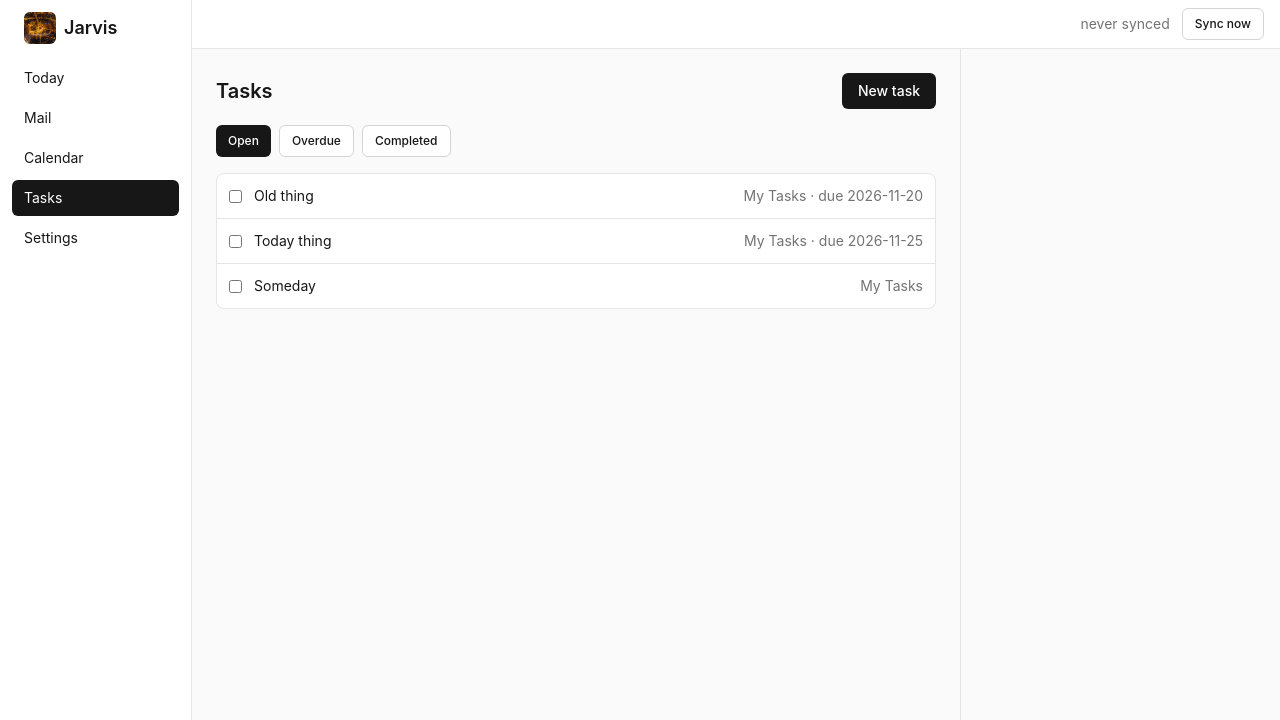
Test: Complete task › rolls back and shows the error when completing fails
Click the checkbox named "Complete Today thing": (236, 241) [229,234,242,248]
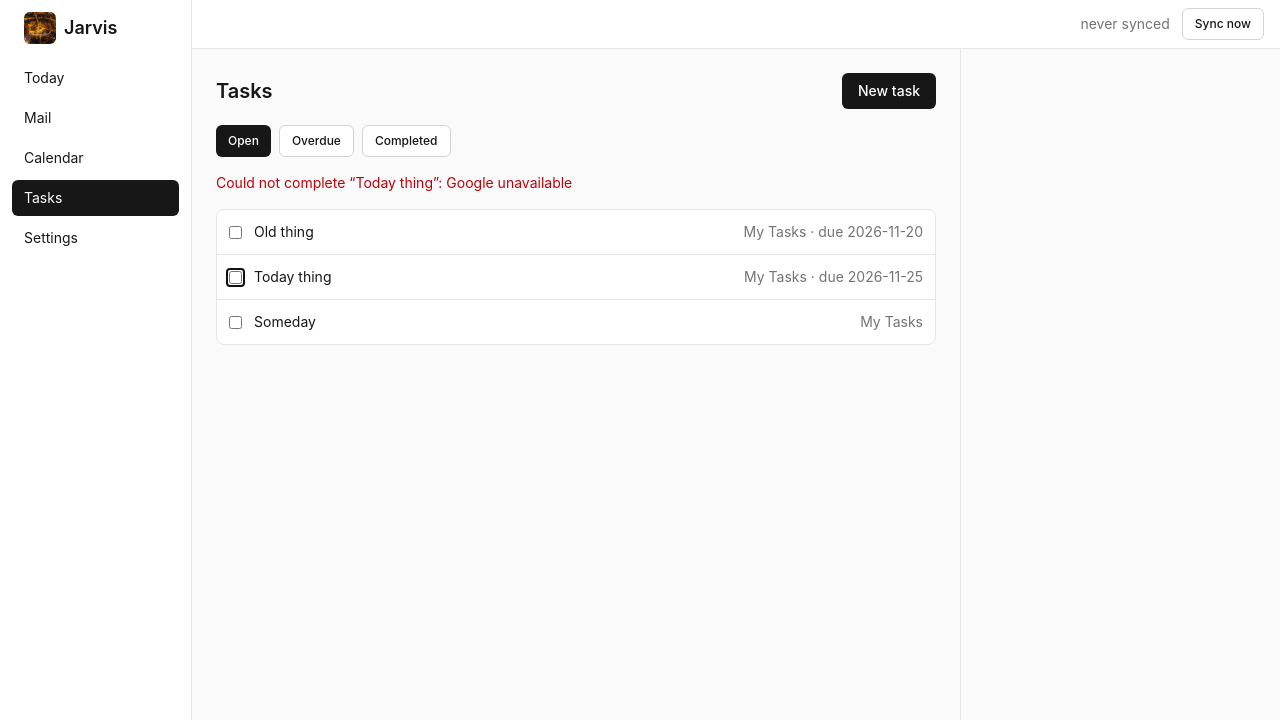
Expected: the text "Today thing" is shown, [254,267,332,287]
Now the message shows "Google unavailable", box [446,174,572,191]
